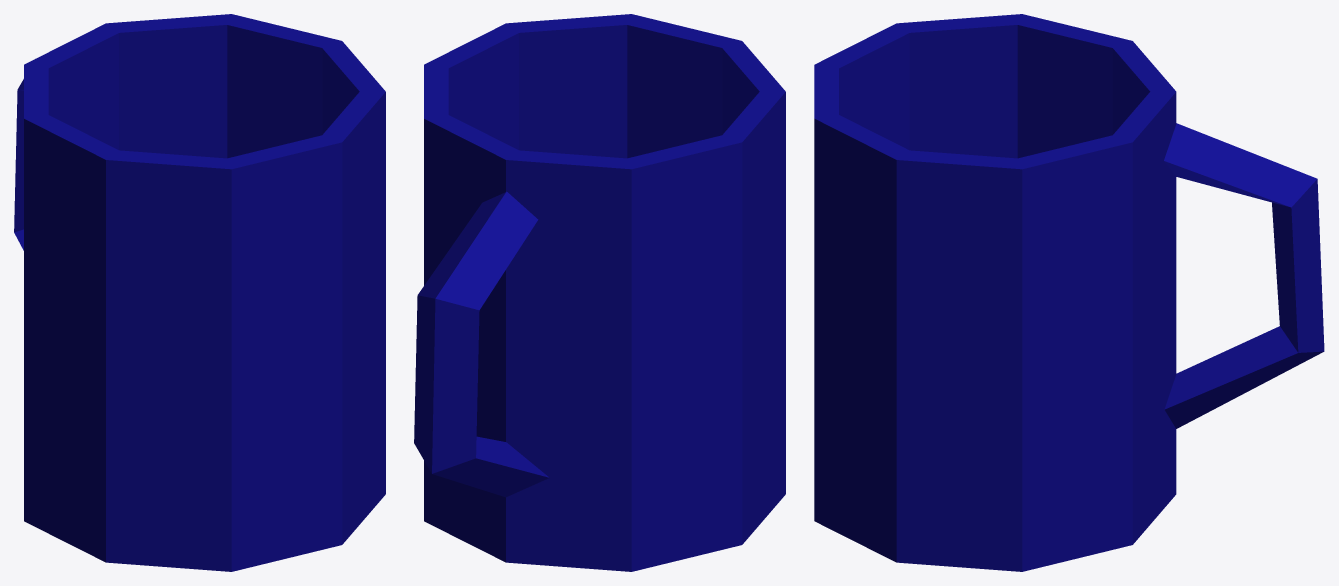
Rendered from Противник.obj.
3 renders of one model, left to right at view 1: azimuth 30°, elevation 25°; view 2: azimuth 150°, elevation 25°; view 3: azimuth 270°, elevation 25°, orthographic.
Parts seen in each view (by area): view 1: Torus.001; view 2: Torus.001; view 3: Torus.001.
Boxes of the visible parts, <box> form: Torus.001: <box>14,14,385,571</box>; Torus.001: <box>414,14,785,571</box>; Torus.001: <box>814,14,1324,571</box>.
Size of the model in its own units: 0.2068 by 0.25 by 0.287.
